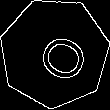O_NW: (22, 22, 87, 84)
